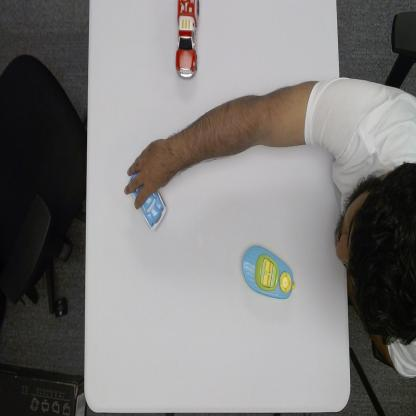Arm: (170, 84, 343, 169)
Boat: (241, 243, 295, 302)
Car: (127, 170, 168, 232)
Firetruck: (173, 0, 202, 81)
Hand: (124, 140, 171, 212)
